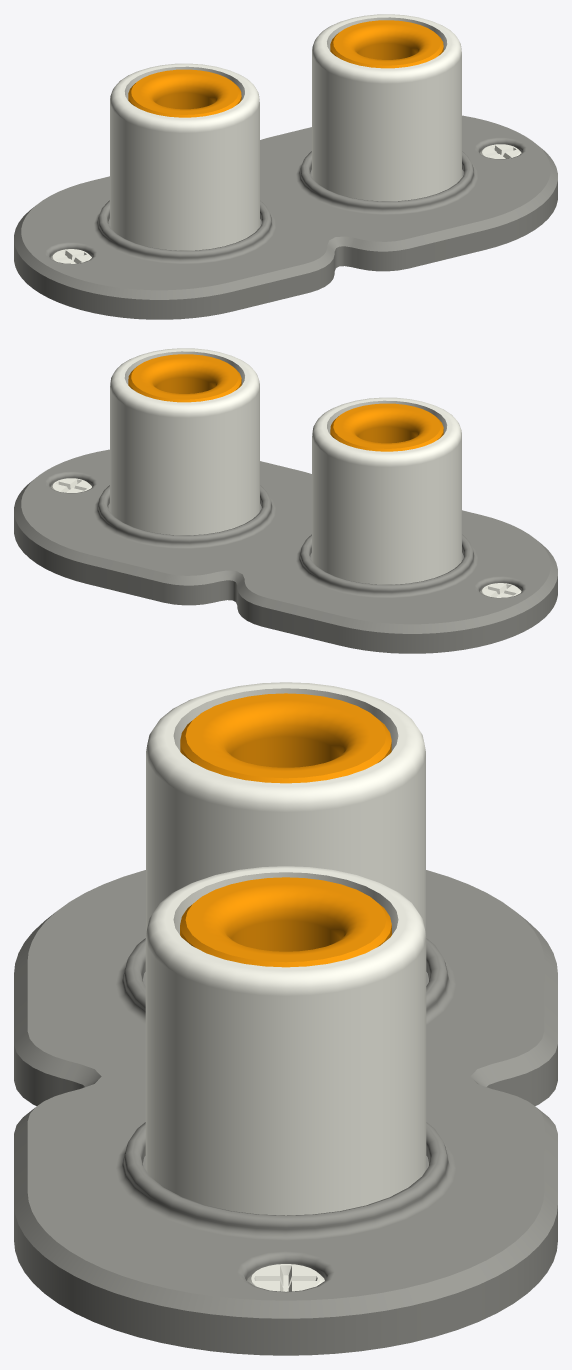
File: Socket #7.fbx
The picture shows the model from 3 angles, top to bottom: view 1: azimuth 30°, elevation 25°; view 2: azimuth 150°, elevation 25°; view 3: azimuth 270°, elevation 25°; orthographic projection. The views are drawn at different scales.
Parts seen in each view (by area): view 1: kitbash_91; view 2: kitbash_91; view 3: kitbash_91.
Boxes of the visible parts, x1,y1,x2,y2 form: kitbash_91: (14,14,557,319); kitbash_91: (14,348,557,653); kitbash_91: (14,682,557,1355).
Bounding box in the file's own units: 4 × 1.21 × 2.
